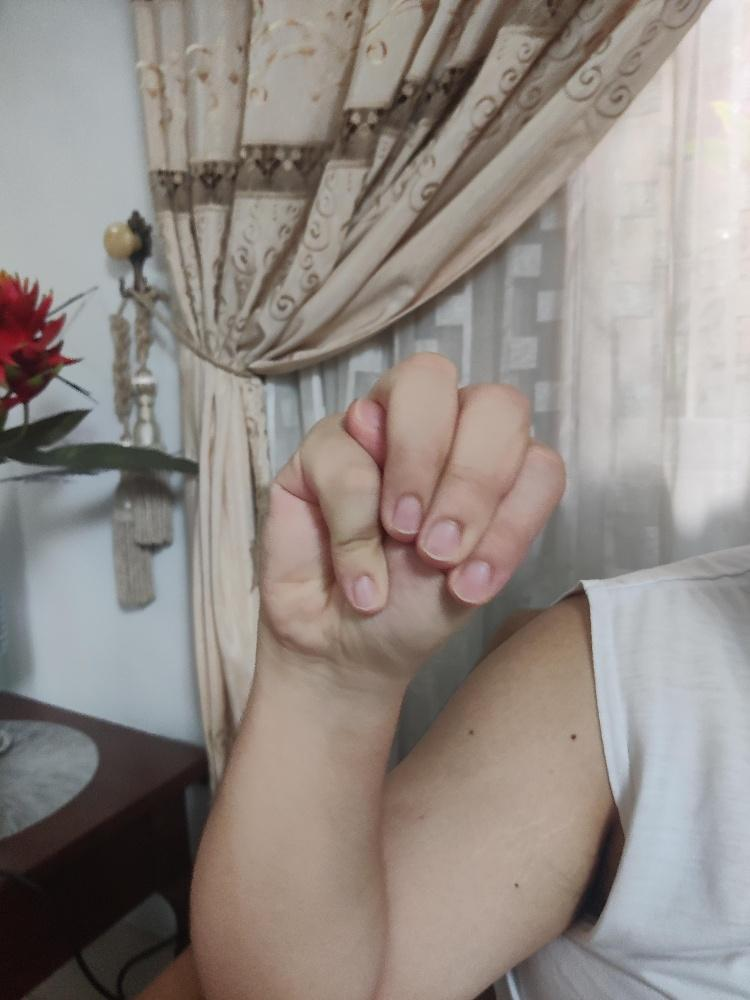m: (255, 349, 566, 666)
